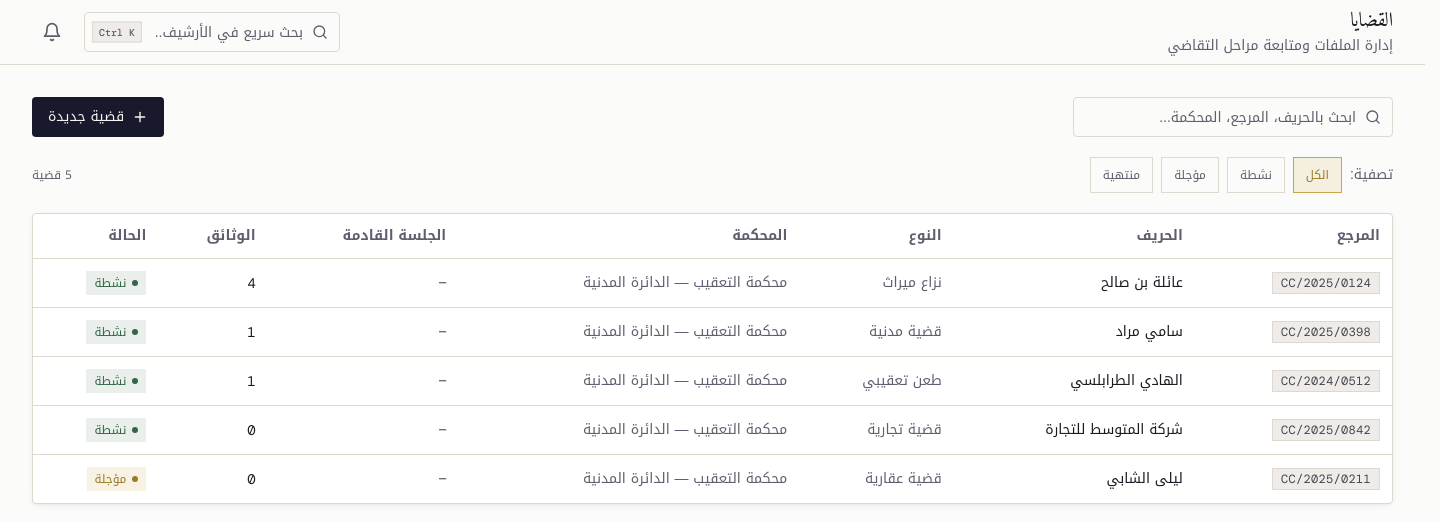
Test: Cases page › searches cases by reference
Check: the text "عائلة بن صالح" is shown, box [954,258,1195,307]
Type "CC/2024/0512" into the field with placeholder "ابحث بالحريف، المرجع، المحكمة..." at (1233, 117), box [1073,97,1393,137]
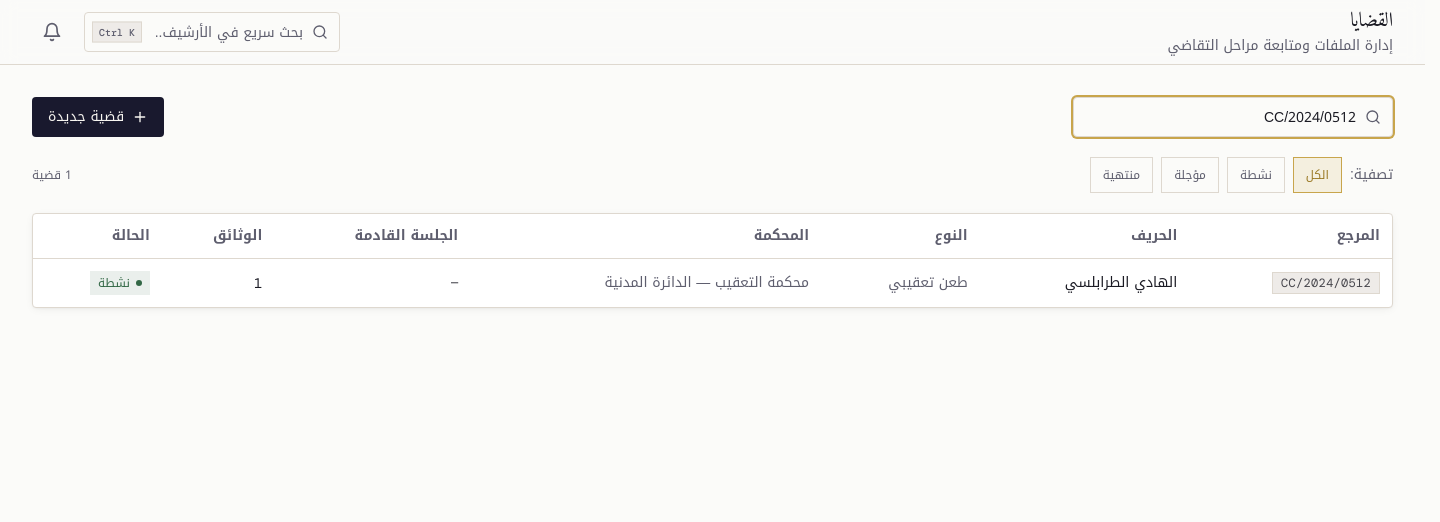
Check: the text "الهادي الطرابلسي" is shown, box [980,258,1189,306]
Check: the text "سامي مراد" is gone
